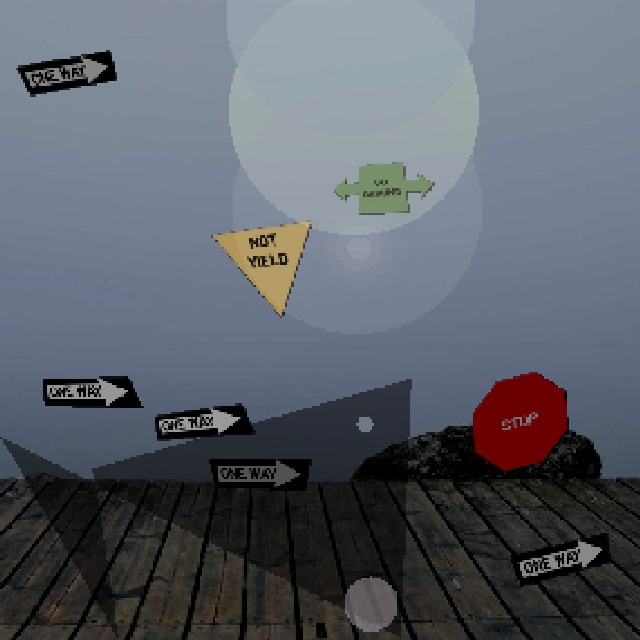GO_AROUND: (331, 160, 433, 213)
NOT_YIELD: (209, 218, 311, 317)
ONE_WAY_ right: (507, 530, 609, 585), (14, 48, 116, 94), (152, 401, 254, 439), (40, 374, 142, 407), (207, 456, 309, 488)
STOP: (469, 369, 567, 471)
